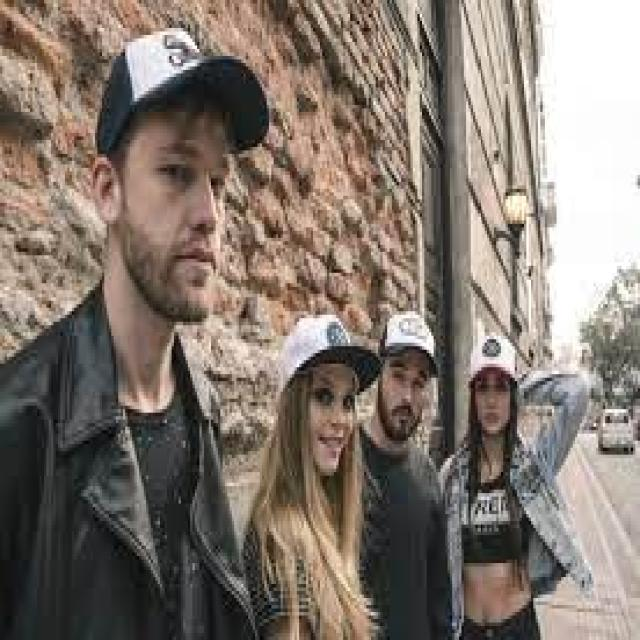cap: (90, 21, 272, 224), (271, 304, 390, 427), (380, 300, 443, 406), (466, 325, 524, 416)
